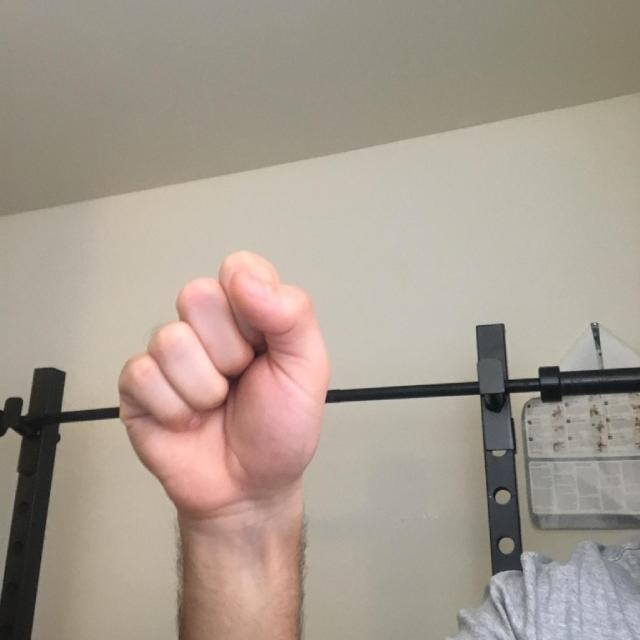E: (69, 189, 446, 560)
